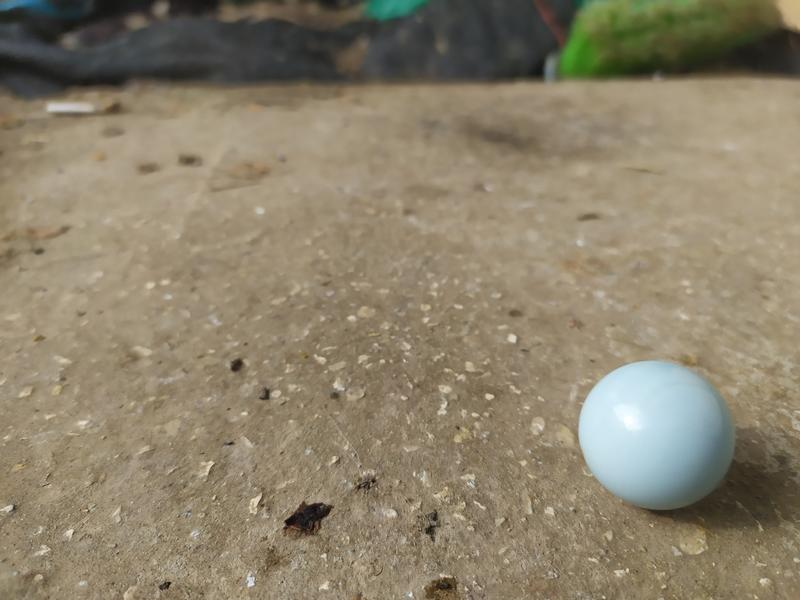Warning: (574, 357, 740, 514)
